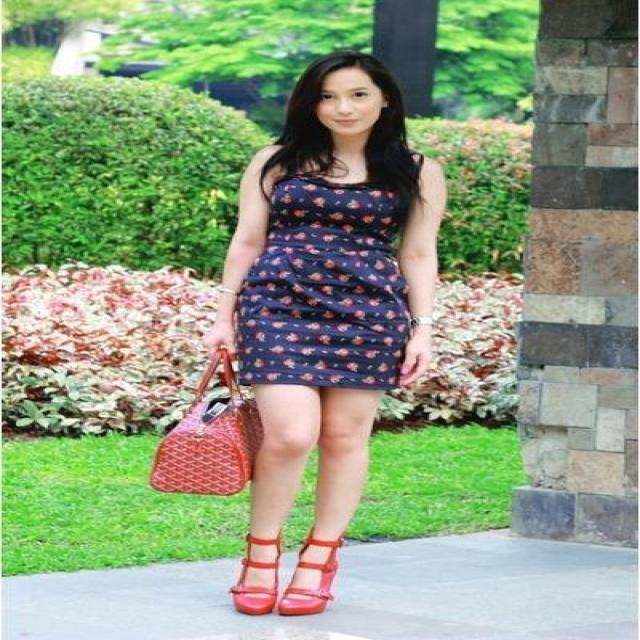bag: (149, 345, 262, 494)
dress: (213, 166, 422, 404)
shoe: (229, 534, 341, 616)
